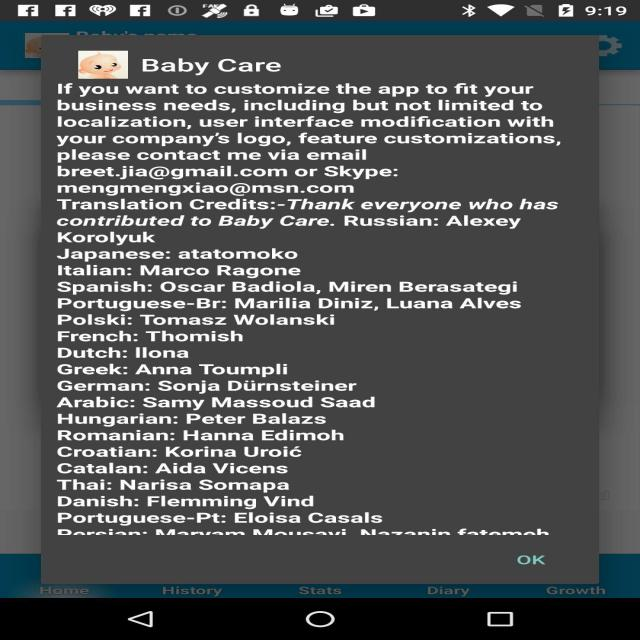image: (73, 50, 143, 87)
text: (41, 82, 585, 539), (146, 45, 291, 82)
